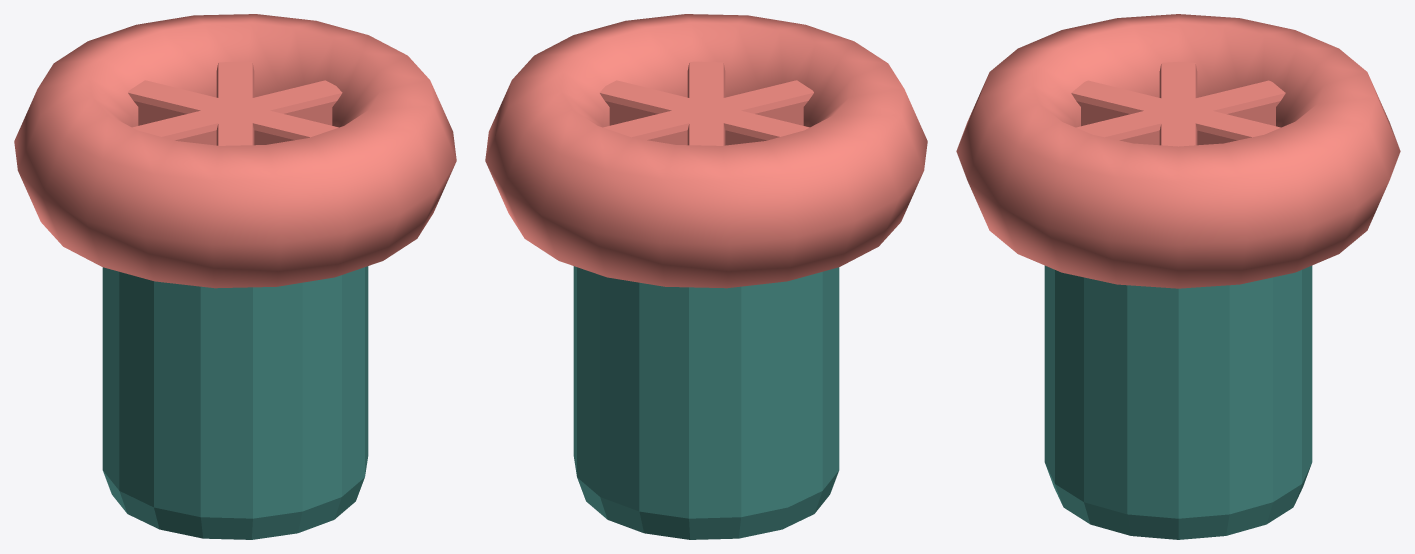
The model's file is water_valve.glb.
3 renders of one model, left to right at view 1: azimuth 30°, elevation 25°; view 2: azimuth 150°, elevation 25°; view 3: azimuth 270°, elevation 25°, orthographic.
Parts seen in each view (by area): view 1: model; view 2: model; view 3: model.
Part boxes in pixels (x1=…): model: x1=14, y1=14, x2=456, y2=539; model: x1=485, y1=14, x2=927, y2=539; model: x1=956, y1=14, x2=1400, y2=539.
Bounding box in the file's own units: 0.2 × 0.2 × 0.2.
